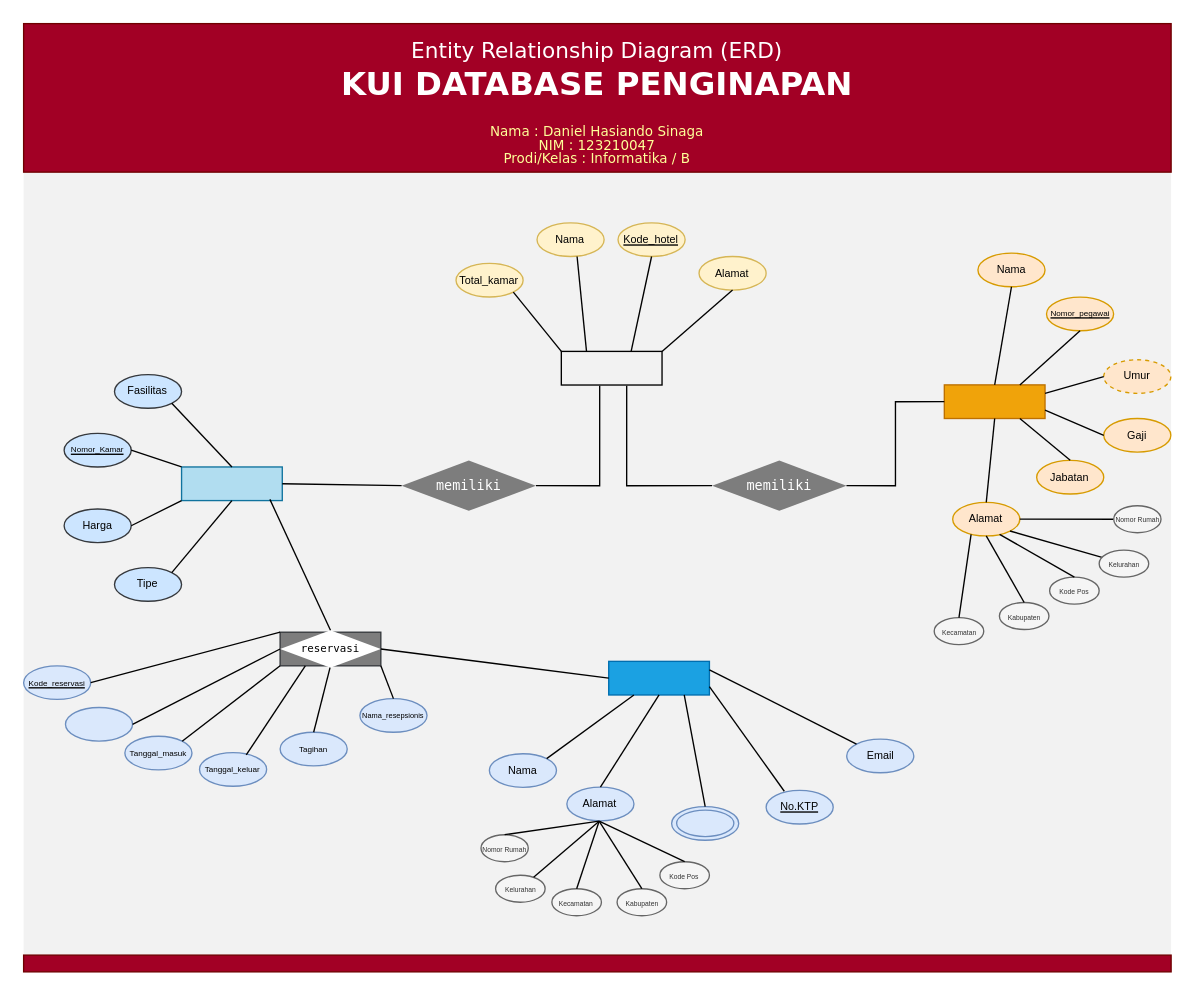
Some shapes in this 1195 by 996 pixel diagram are drawn without their labels. Each missing label, with the centre of its shape:
"KAMAR" belongs at point (231, 483).
"KARYAWAN" belongs at point (994, 401).
"Nomor_telepon" belongs at point (704, 823).
"PELANGGAN" belongs at point (658, 677).
"PENINAPAN" belongs at point (611, 367).
"Type" belongs at point (98, 723).
